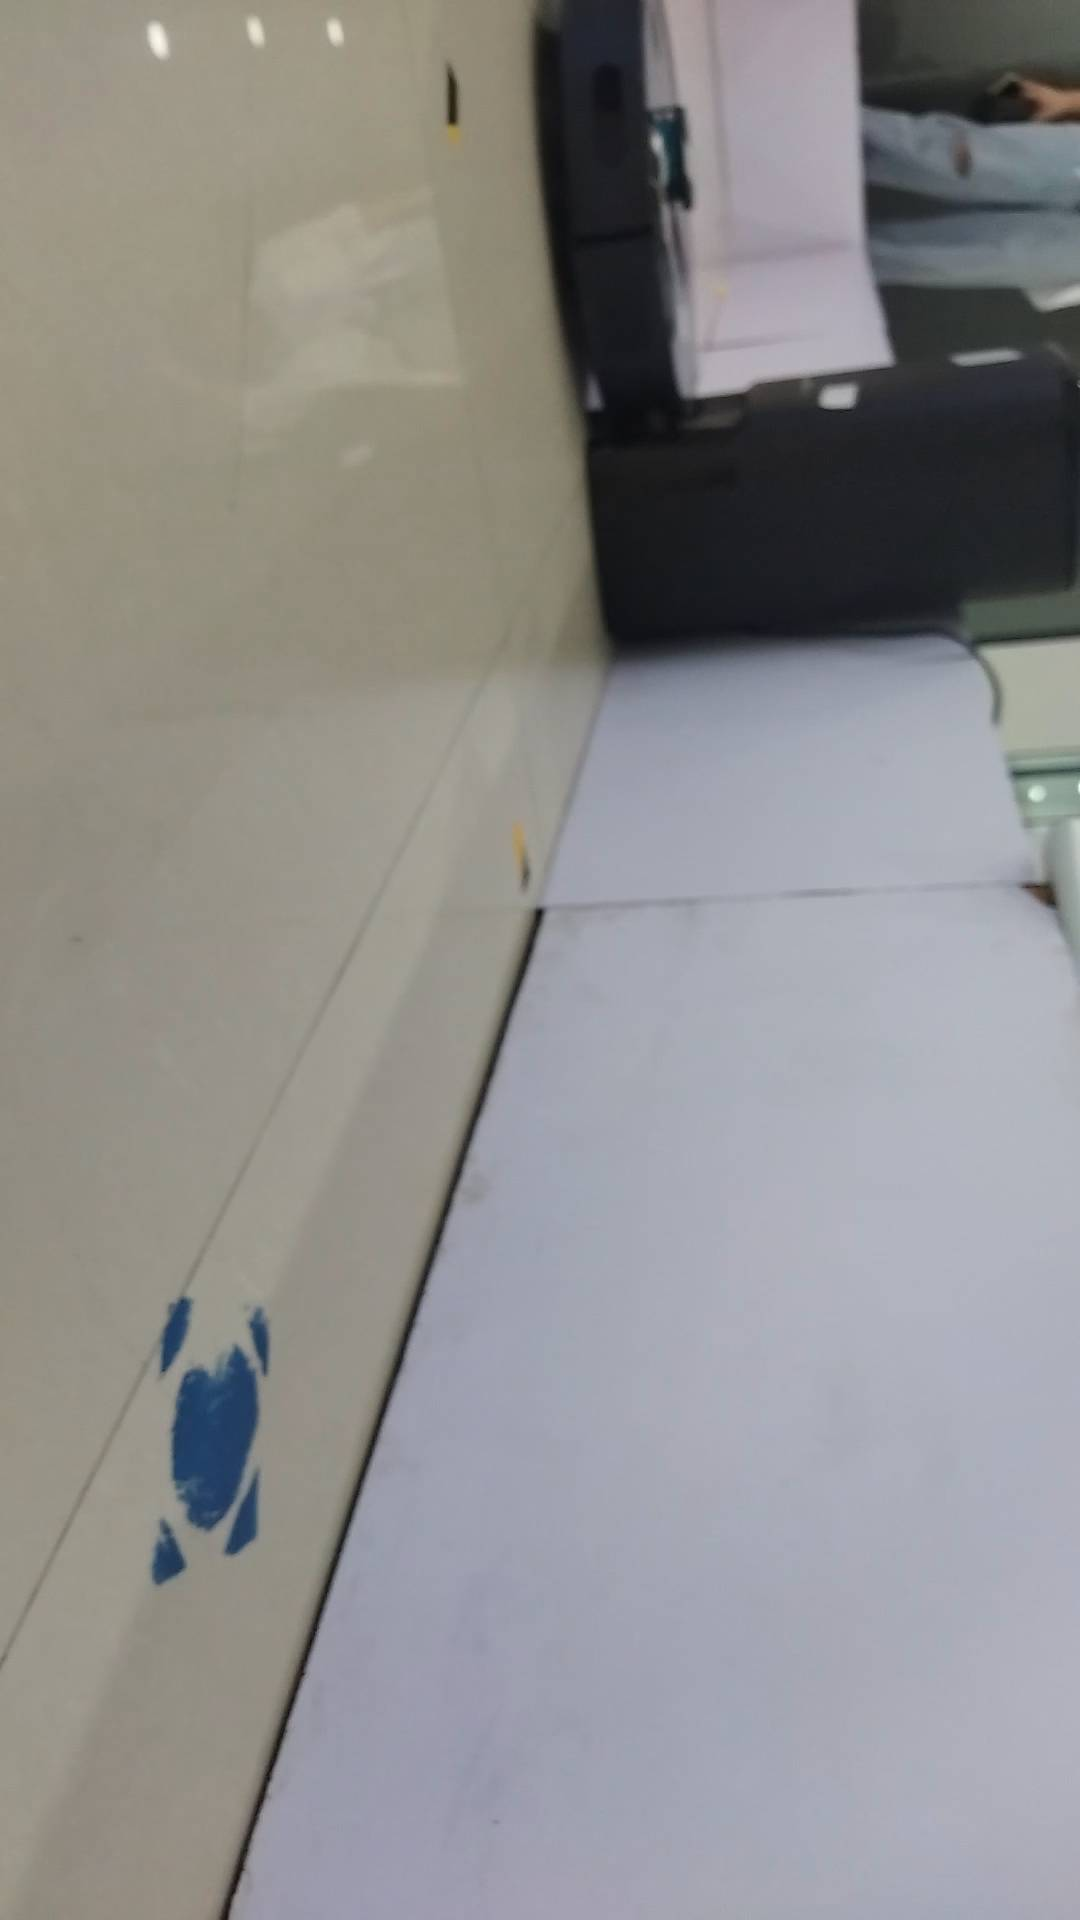dust collecting barrel: (585, 343, 1080, 655)
